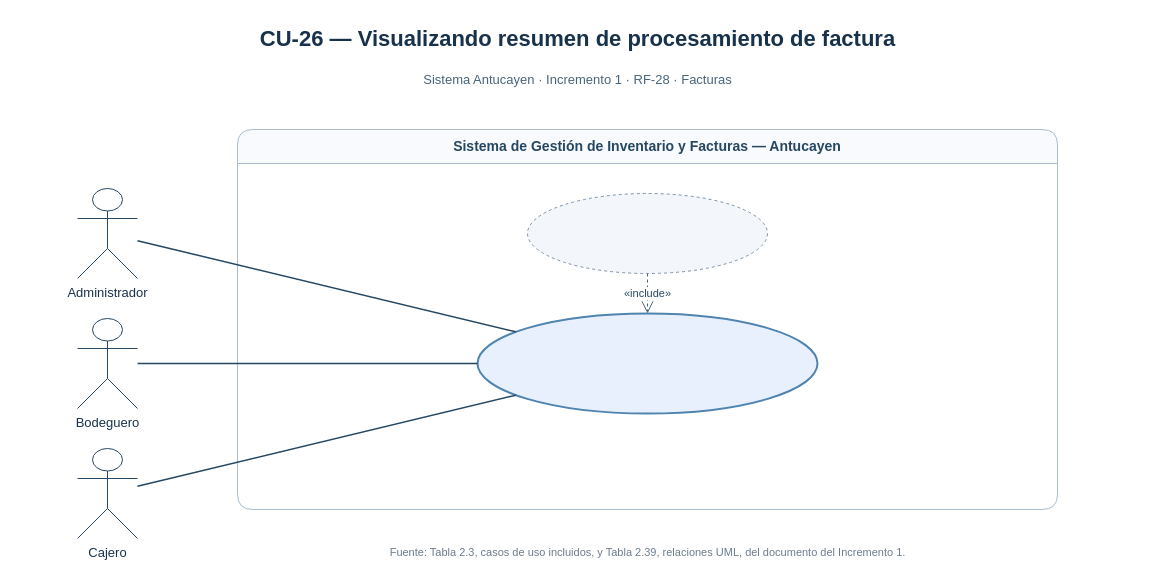
Some shapes in this 1154 by 582 pixel diagram are drawn without their labels. The centre of each missing label's shape, as x and y in pixels:
"CU-18 Cargando ítems mediante archivo digital" belongs at point (647, 233).
"CU-26 Visualizando resumen de procesamiento de factura" belongs at point (647, 363).
